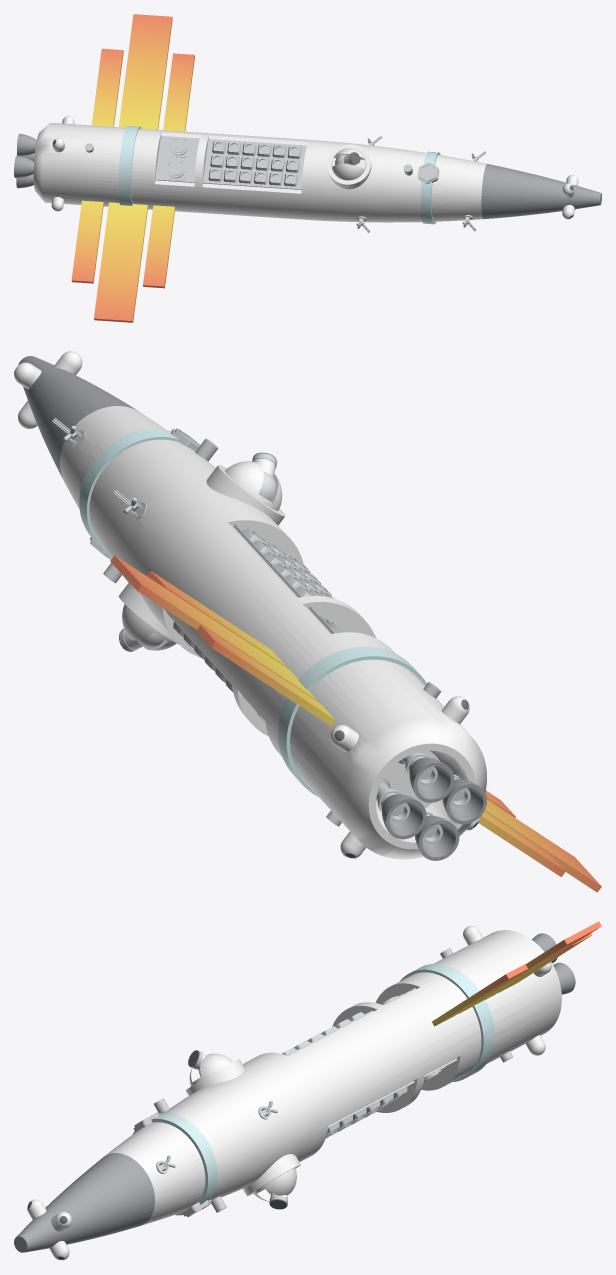
Rendered from solaris_class_close_combat_destroyer.glb.
The picture shows the model from 3 angles, top to bottom: view 1: azimuth 30°, elevation 25°; view 2: azimuth 150°, elevation 25°; view 3: azimuth 270°, elevation 25°; orthographic projection. The views are drawn at different scales.
Visible parts, largest first — view 1: Object_5, Object_2, Object_84, Object_3, Object_40, Object_59, Object_21, Object_60, Object_54, Object_47, Object_6; view 2: Object_5, Object_84, Object_2, Object_3, Object_4, Object_6; view 3: Object_5, Object_84, Object_3, Object_2, Object_6.
Boxes of the visible parts, left/top/right/bottom form: Object_5: left=33, top=116, right=578, bottom=222; Object_2: left=85, top=136, right=486, bottom=232; Object_84: left=14, top=133, right=601, bottom=219; Object_3: left=118, top=126, right=440, bottom=224; Object_40: left=76, top=62, right=190, bottom=273; Object_59: left=79, top=93, right=187, bottom=242; Object_21: left=73, top=34, right=192, bottom=301; Object_60: left=79, top=96, right=186, bottom=240; Object_54: left=78, top=85, right=188, bottom=250; Object_47: left=77, top=74, right=189, bottom=261; Object_6: left=71, top=14, right=194, bottom=322; Object_5: left=14, top=351, right=486, bottom=859; Object_84: left=18, top=356, right=486, bottom=860; Object_2: left=52, top=418, right=464, bottom=837; Object_3: left=79, top=428, right=426, bottom=796; Object_4: left=137, top=471, right=470, bottom=843; Object_6: left=110, top=555, right=601, bottom=892; Object_5: left=27, top=925, right=561, bottom=1260; Object_84: left=14, top=933, right=575, bottom=1252; Object_3: left=132, top=963, right=494, bottom=1215; Object_2: left=133, top=948, right=513, bottom=1217; Object_6: left=505, top=921, right=601, bottom=979.
Size of the model in its own units: 120 by 54.91 by 104.
